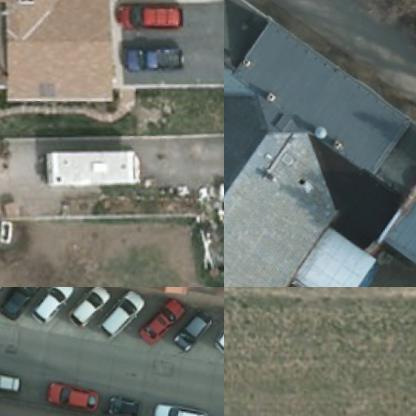camping car: (43, 136, 150, 192)
car: (96, 287, 148, 336), (141, 290, 190, 342), (49, 369, 108, 410), (115, 0, 192, 31), (176, 298, 218, 348), (29, 287, 81, 325), (69, 287, 112, 329), (154, 387, 216, 415), (0, 287, 48, 319), (106, 383, 147, 415), (0, 359, 28, 394)
pickup: (120, 32, 197, 76)
